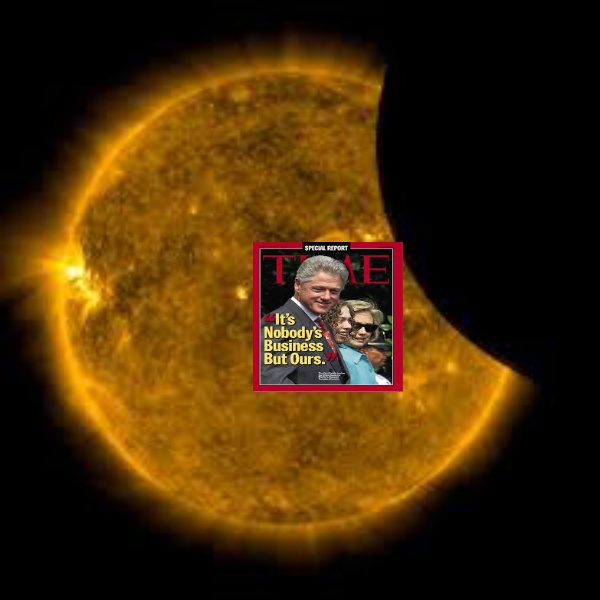time_cover: (249, 227, 408, 392)
